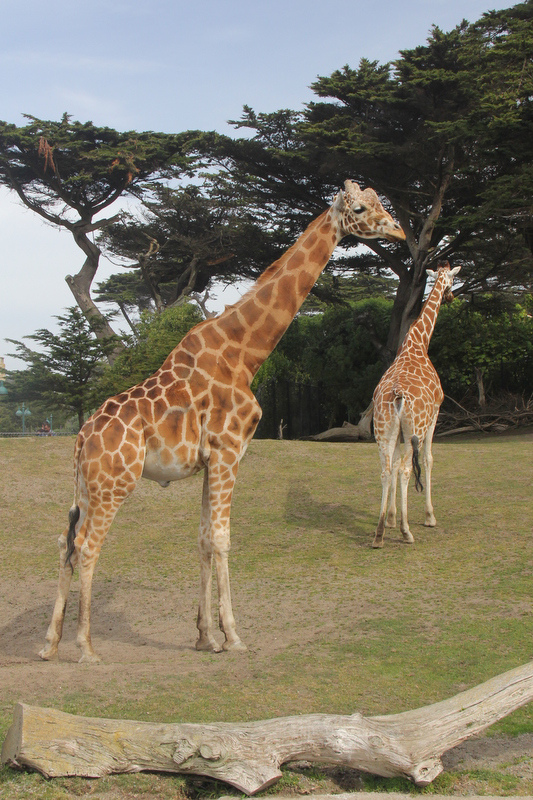giraffe: (44, 169, 412, 662), (321, 247, 469, 583)
